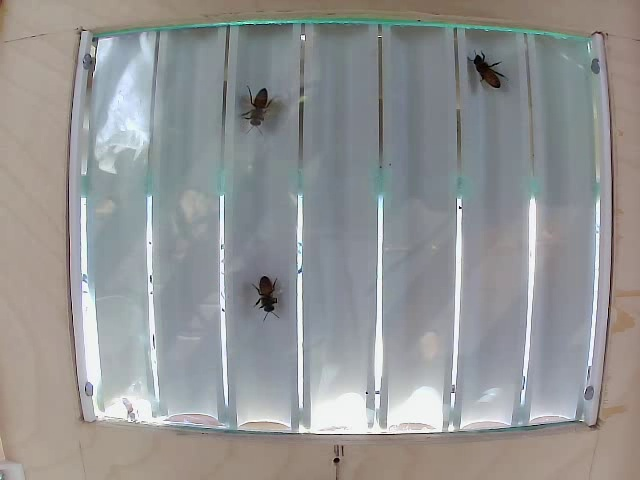bee: (239, 84, 279, 138), (251, 275, 289, 325), (469, 48, 509, 92)
